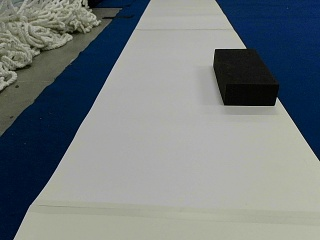block: (212, 48, 278, 105)
